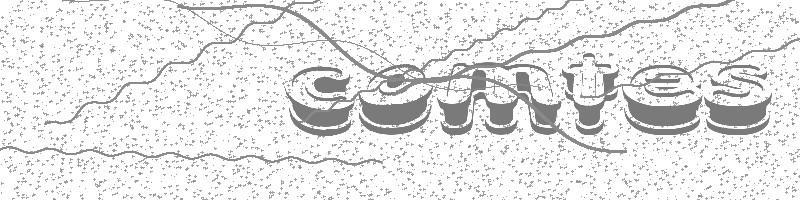c: (287, 65, 354, 138)
e: (622, 63, 702, 136)
m: (437, 61, 560, 136)
o: (357, 64, 433, 136)
s: (704, 62, 772, 136)
t: (561, 52, 619, 136)
